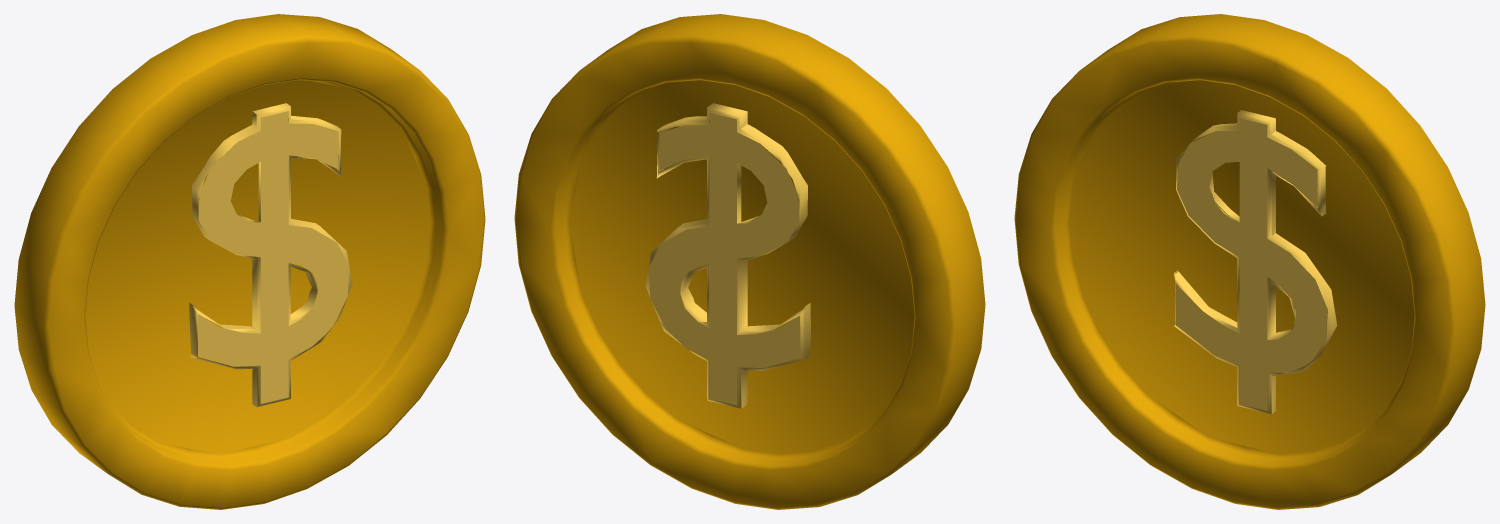
File: coin-final.glb
3 views of the same model, side by side, from view 1: azimuth 30°, elevation 25°; view 2: azimuth 150°, elevation 25°; view 3: azimuth 330°, elevation 25° (orthographic).
Visible parts, largest first — view 1: Text; view 2: Text; view 3: Text.
Boxes of the visible parts, x1=… form: Text: x1=14, y1=14, x2=485, y2=509; Text: x1=514, y1=14, x2=985, y2=509; Text: x1=1014, y1=14, x2=1485, y2=509.
Bounding box in the file's own units: 0.9307 × 0.9307 × 0.1211.
